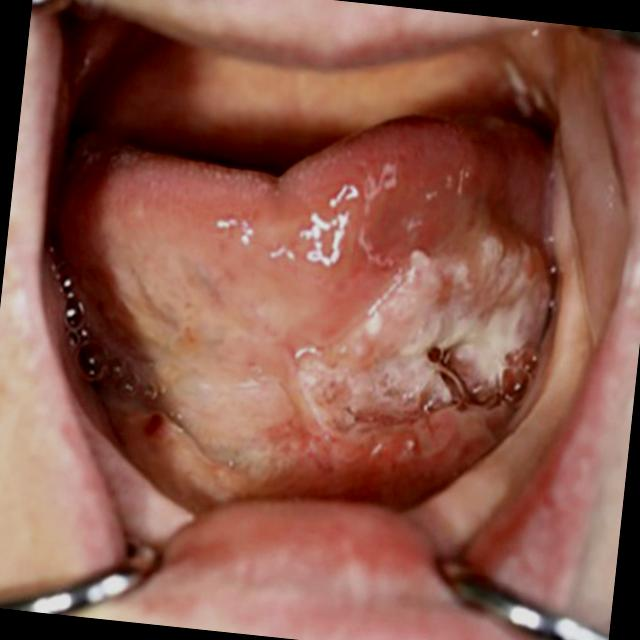Cancer: (309, 229, 556, 460)
